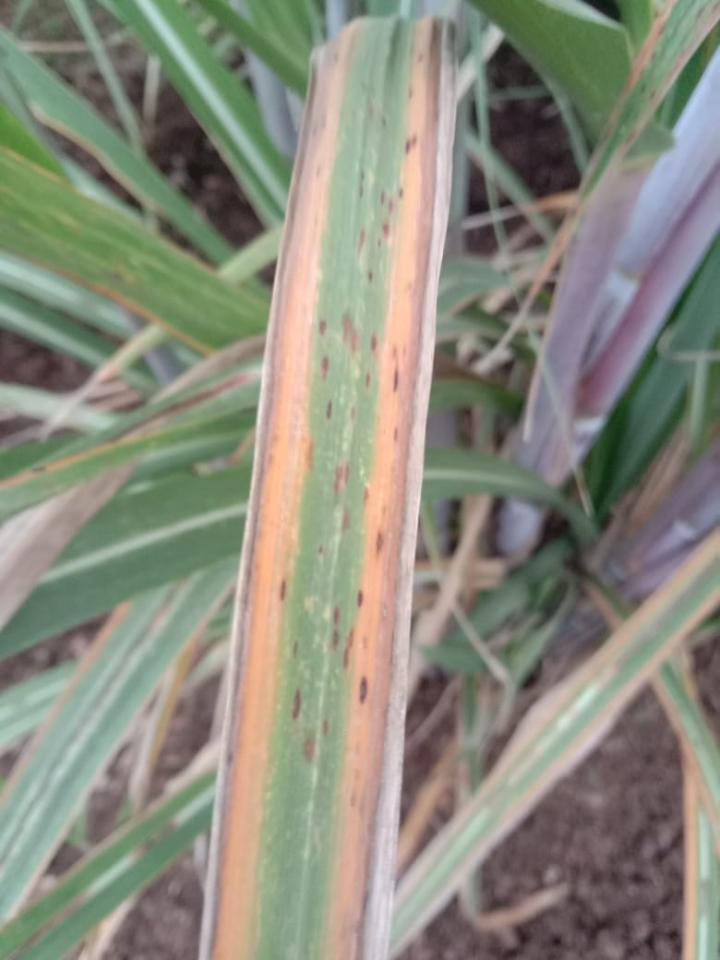Rust: (275, 307, 413, 772), (351, 160, 414, 285), (396, 128, 422, 155)
